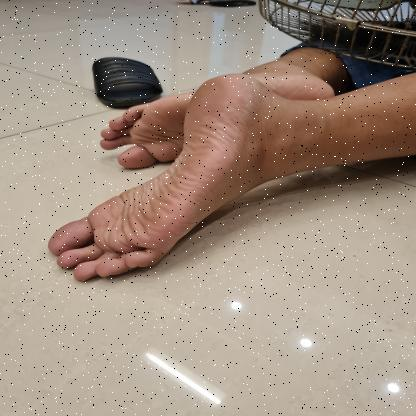leg: (37, 64, 416, 292), (86, 90, 186, 176)
